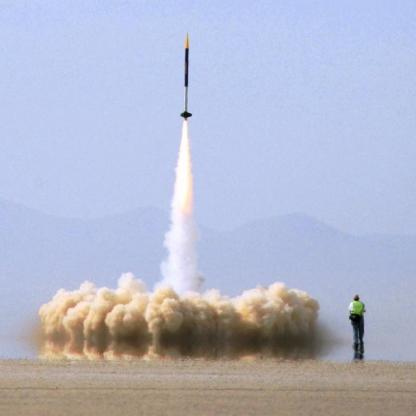MIL_TBM: (179, 32, 194, 121)
